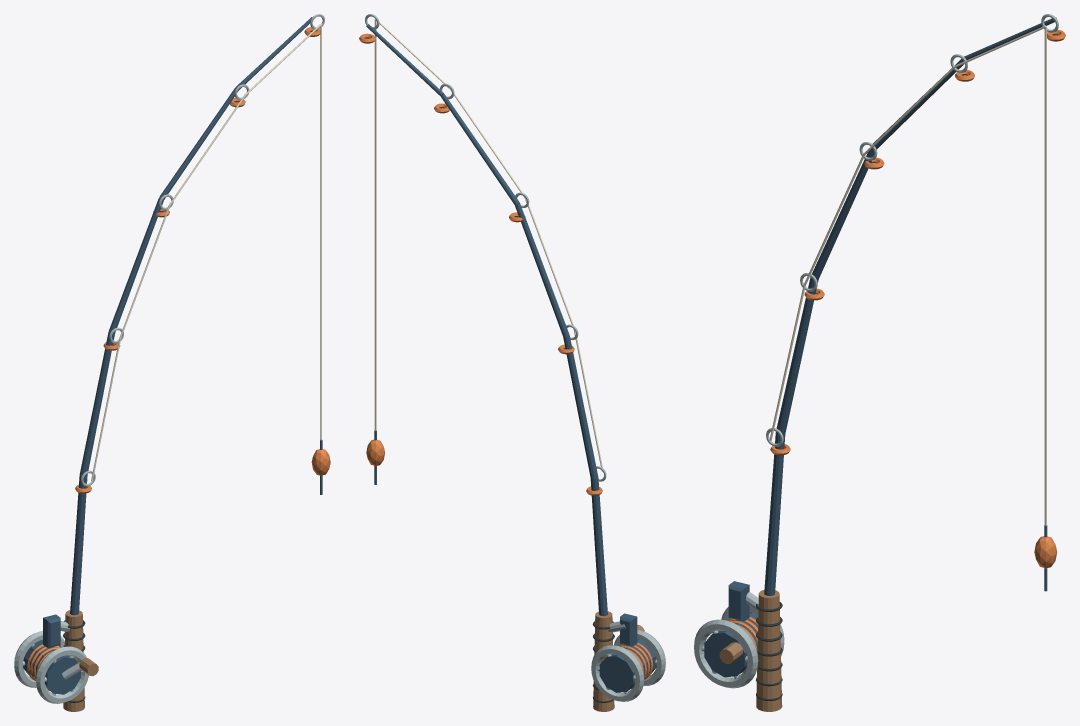
The model's file is harbor-and-tackle-fly-fishing-rod-fe3d8d8b__19565.glb.
The picture shows the model from 3 angles, left to right: view 1: azimuth 30°, elevation 25°; view 2: azimuth 150°, elevation 25°; view 3: azimuth 330°, elevation 25°; orthographic projection. The views are drawn at different scales.
Parts seen in each view (by area): view 1: navy, metal, ivory, orange, cedar; view 2: navy, metal, ivory, orange, cedar; view 3: navy, metal, ivory, cedar, orange, rubber.
Boxes of the visible parts, bbox=[...] form: navy: bbox=[23, 17, 322, 694]; metal: bbox=[14, 14, 324, 703]; ivory: bbox=[91, 24, 321, 481]; orange: bbox=[27, 27, 330, 690]; cedar: bbox=[63, 610, 98, 711]; navy: bbox=[366, 24, 656, 692]; metal: bbox=[365, 14, 665, 701]; ivory: bbox=[374, 19, 602, 471]; orange: bbox=[359, 33, 653, 688]; cedar: bbox=[593, 611, 644, 711]; navy: bbox=[704, 17, 1056, 677]; metal: bbox=[694, 14, 1058, 688]; ivory: bbox=[769, 25, 1046, 525]; cedar: bbox=[719, 590, 782, 711]; orange: bbox=[728, 29, 1065, 672]; rubber: bbox=[756, 602, 782, 700].
Size of the model in its own units: 1.26 by 2.58 by 0.2856.
